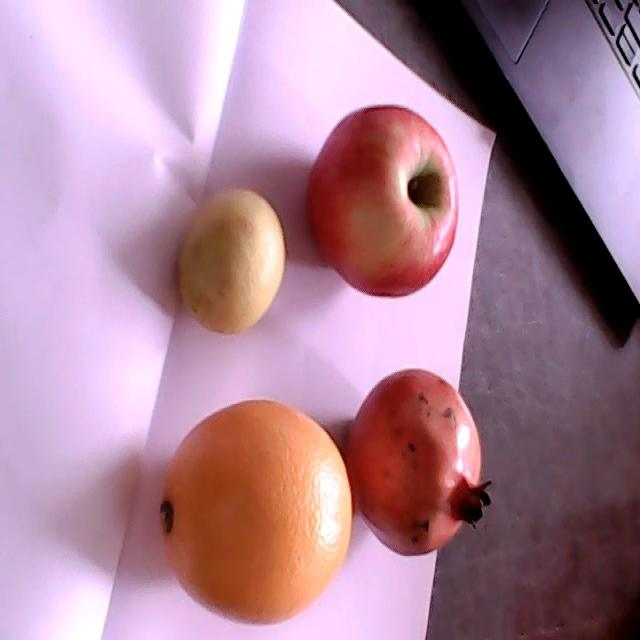apple: (305, 105, 459, 298)
lemon: (179, 187, 286, 338)
orange: (156, 396, 354, 626)
pomegranate: (346, 368, 492, 557)
